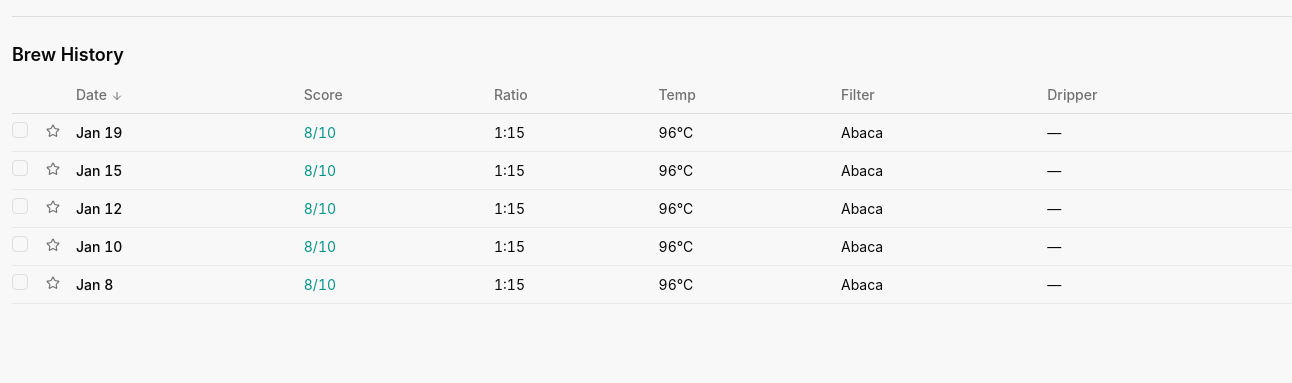
Test case: BrewHistoryTable — comparison selection › disables 5th checkbox when 4 are already selected
This screenshot has width=1292, height=383.
Click the checkbox named "Select brew from Jan 19 for comparison": (20, 130) x1=12 y1=122 x2=28 y2=138
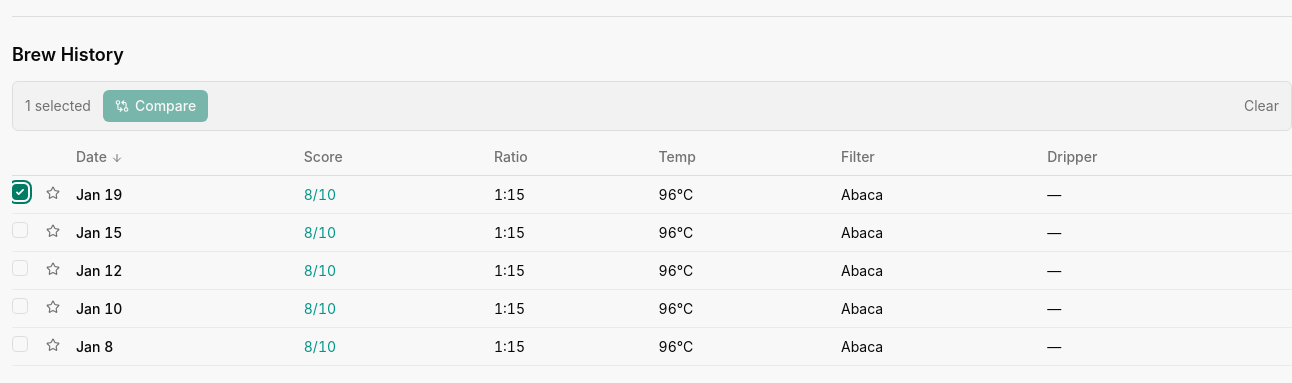
Click the checkbox named "Select brew from Jan 15 for comparison": (20, 230) x1=12 y1=222 x2=28 y2=238
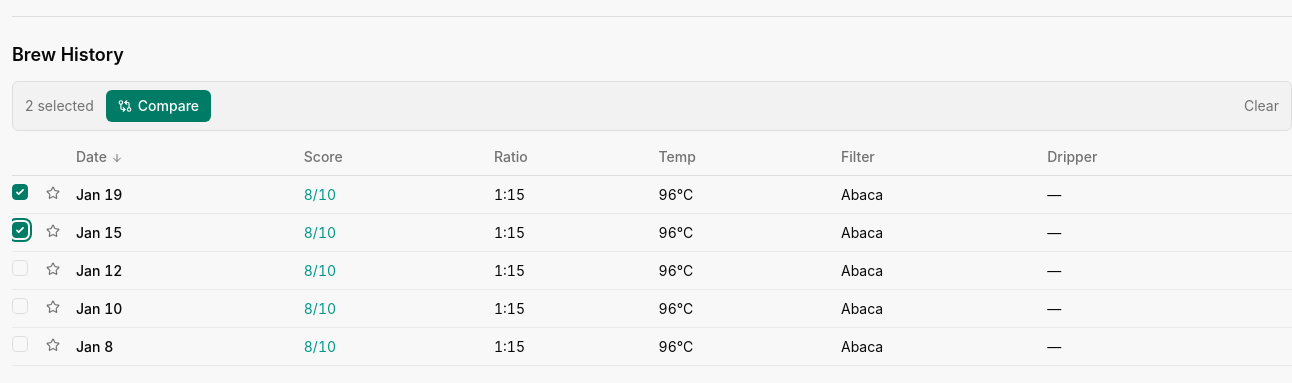
Click the checkbox named "Select brew from Jan 12 for comparison": (20, 268) x1=12 y1=260 x2=28 y2=276
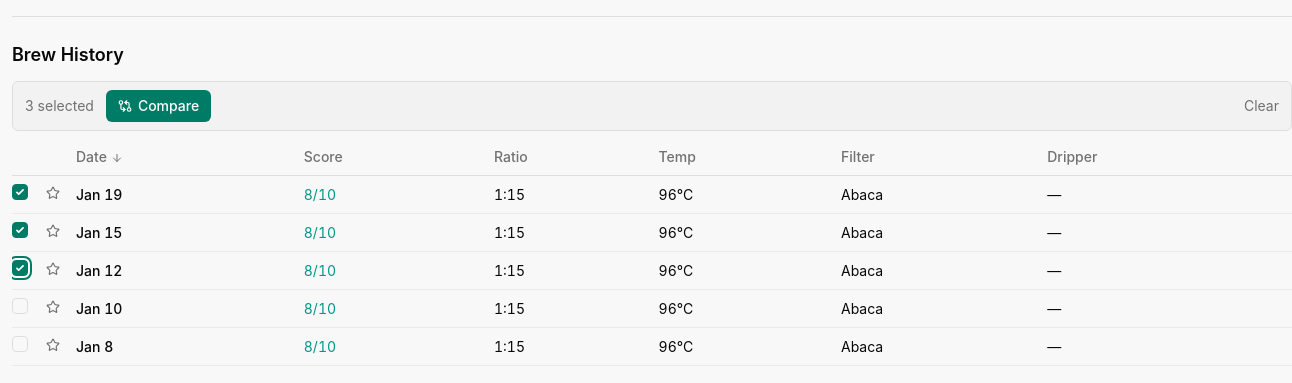
Click the checkbox named "Select brew from Jan 10 for comparison": (20, 306) x1=12 y1=298 x2=28 y2=314
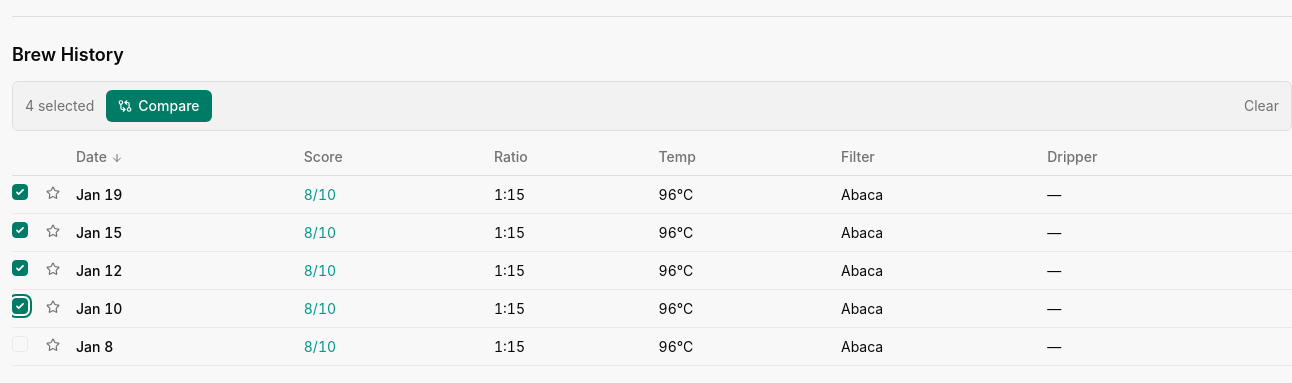
Check: the text "4 selected" is shown, box x1=25 y1=96 x2=94 y2=116
